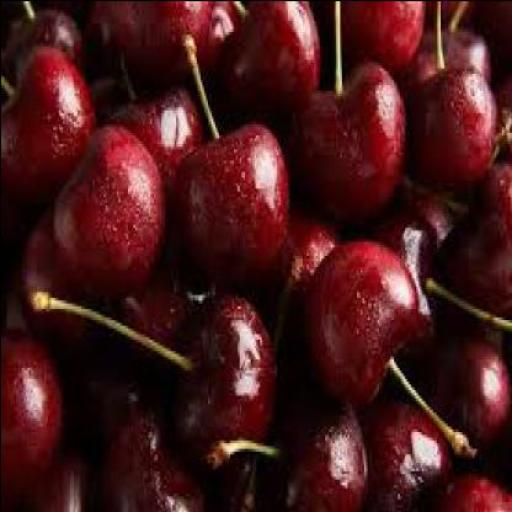biodegradable: (296, 238, 423, 406), (173, 114, 292, 288), (54, 117, 168, 297), (67, 366, 203, 510), (169, 291, 281, 461), (294, 58, 408, 216), (2, 44, 93, 202), (208, 1, 325, 123), (430, 151, 512, 319), (417, 328, 511, 460), (2, 325, 67, 495), (80, 2, 219, 76), (410, 54, 498, 168), (277, 405, 370, 509), (98, 73, 196, 171), (108, 263, 196, 366), (367, 401, 450, 509), (363, 171, 454, 255), (24, 210, 88, 324), (320, 1, 425, 65), (18, 447, 95, 509), (281, 210, 337, 288), (404, 26, 493, 72), (428, 470, 511, 511), (497, 73, 511, 144)
